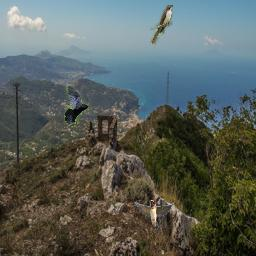Crow: (64, 84, 89, 124)
Cuckoo: (150, 5, 173, 45)
Swallow: (134, 200, 174, 230)
